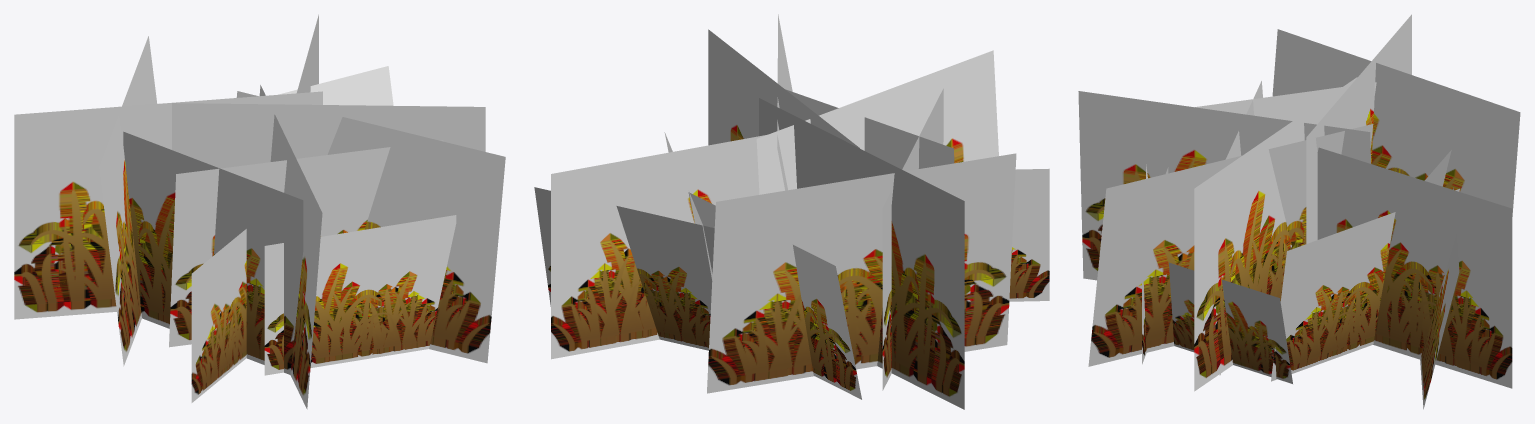
File: mid_grass_03.gltf
The picture shows the model from 3 angles, left to right: view 1: azimuth 30°, elevation 25°; view 2: azimuth 150°, elevation 25°; view 3: azimuth 270°, elevation 25°; orthographic projection. The views are drawn at different scales.
Parts seen in each view (by area): view 1: default; view 2: default; view 3: default.
Boxes of the visible parts, x1=… form: default: x1=14, y1=14, x2=505, y2=409; default: x1=534, y1=14, x2=1049, y2=409; default: x1=1078, y1=14, x2=1520, y2=409.
Size of the model in its own units: 1.16 by 0.5771 by 1.13.
1 material, 1 textured.
